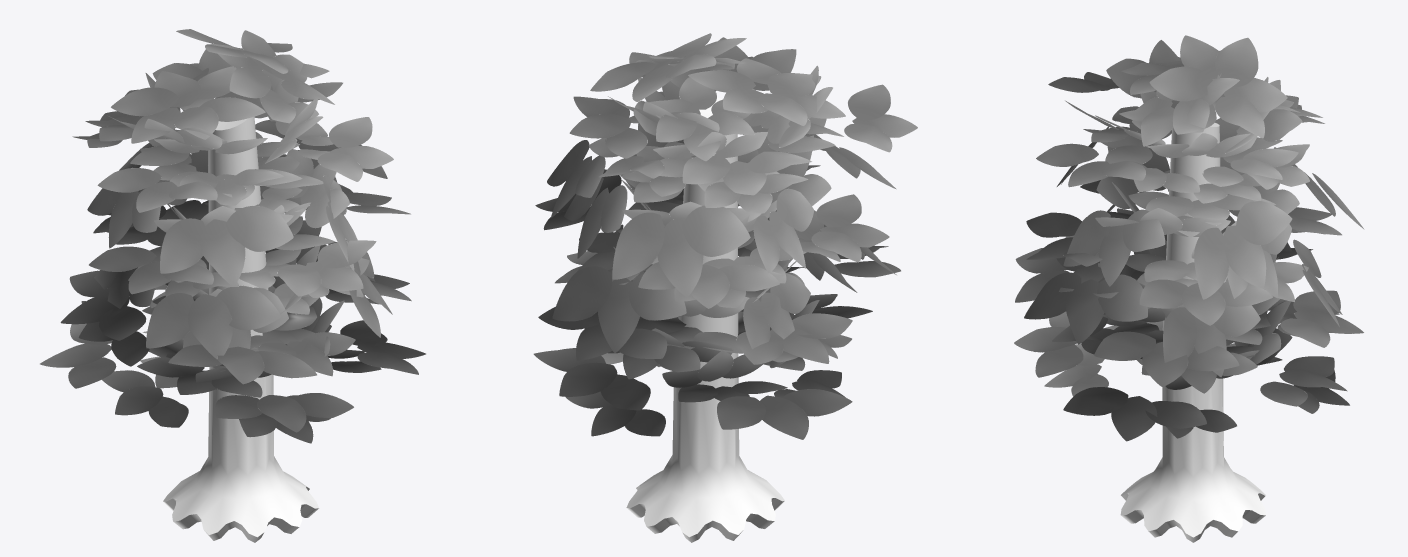
File: UK_Tree_01.fbx
3 renders of one model, left to right at view 1: azimuth 30°, elevation 25°; view 2: azimuth 150°, elevation 25°; view 3: azimuth 270°, elevation 25°, orthographic. The views are drawn at different scales.
Parts seen in each view (by area): view 1: DOFUS_Leaves_01, DOFUS_Tree_01; view 2: DOFUS_Leaves_01, DOFUS_Tree_01; view 3: DOFUS_Leaves_01, DOFUS_Tree_01.
Part boxes in pixels (bbox=[...]): DOFUS_Leaves_01: bbox=[40, 29, 425, 443]; DOFUS_Tree_01: bbox=[163, 116, 319, 542]; DOFUS_Leaves_01: bbox=[533, 33, 917, 439]; DOFUS_Tree_01: bbox=[626, 97, 784, 542]; DOFUS_Leaves_01: bbox=[1014, 35, 1364, 441]; DOFUS_Tree_01: bbox=[1120, 123, 1266, 542].
Bounding box in the file's own units: 2.5 × 3.02 × 2.46.
